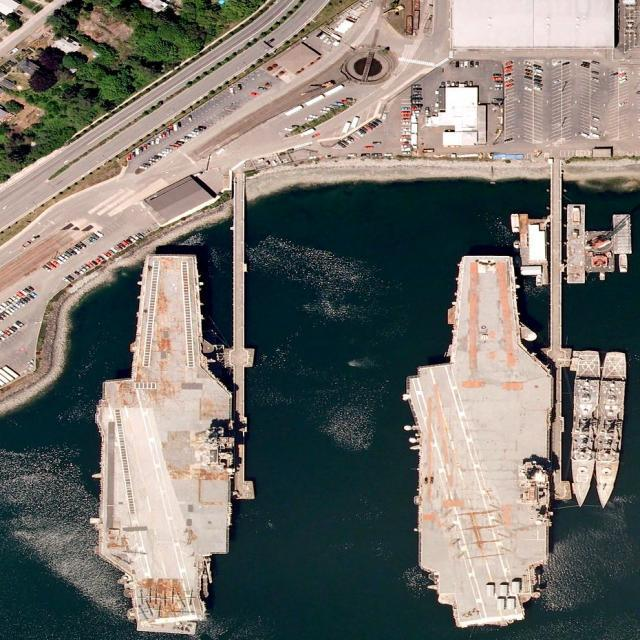Aircraft Carrier: (403, 255, 554, 628), (92, 254, 233, 635)
Dock: (544, 180, 571, 500), (231, 214, 254, 502)
Frigate: (593, 351, 626, 508), (571, 350, 599, 507)
Other Ship: (511, 213, 520, 233), (618, 257, 629, 273), (536, 275, 542, 287)
